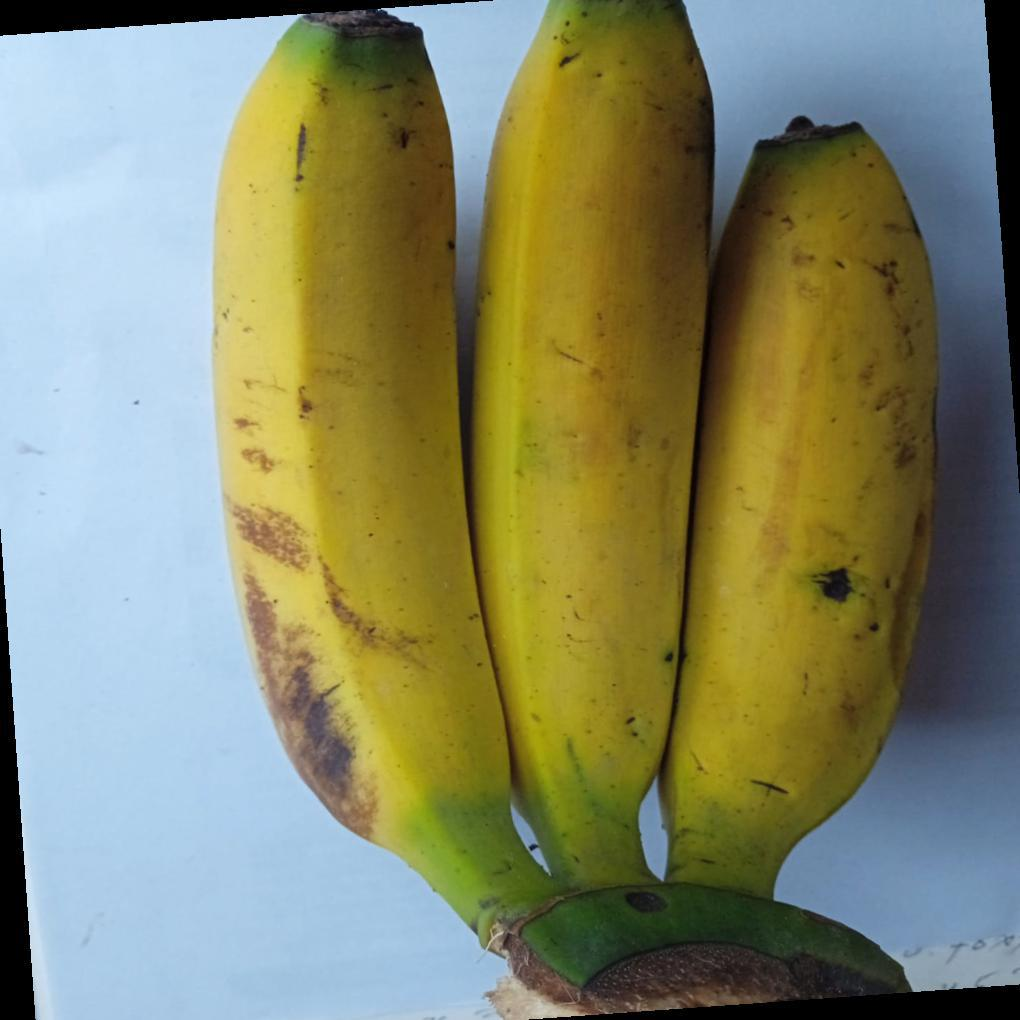Banana Ripe: (193, 13, 666, 1016), (453, 0, 789, 1020), (653, 88, 947, 1020)
